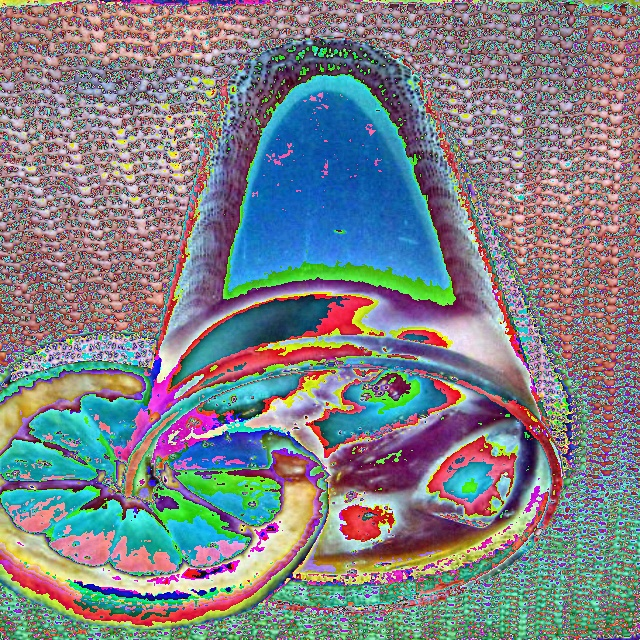background: (0, 34, 543, 628)
